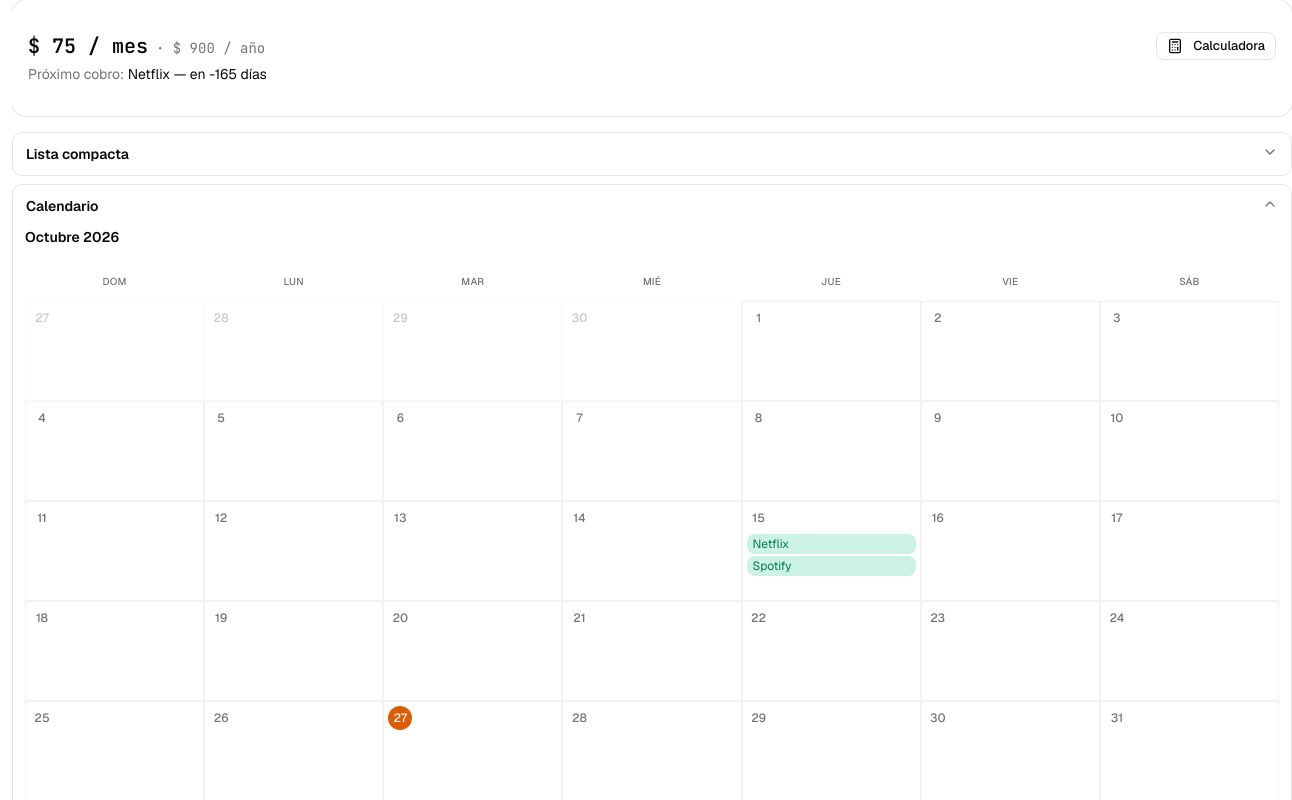
Test case: RecurringCalculator › Cerrar calculadora — returns to normal mode
Note: Open calculator.
Click the button "Calculadora" at (1216, 46), box [1156,32,1276,60]
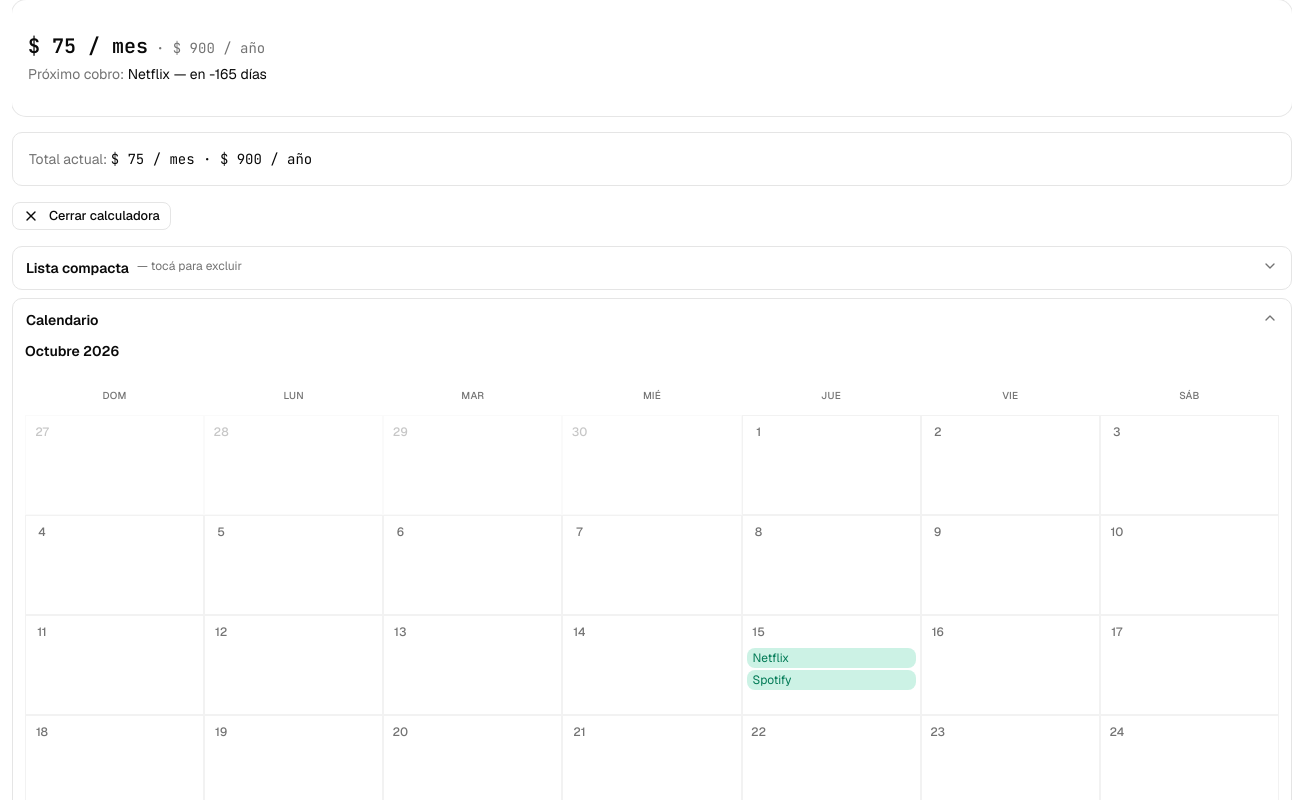
Result: the button "Cerrar calculadora" is shown
Note: Close calculator.
Click the button "Cerrar calculadora" at (91, 216), box [12,202,171,230]
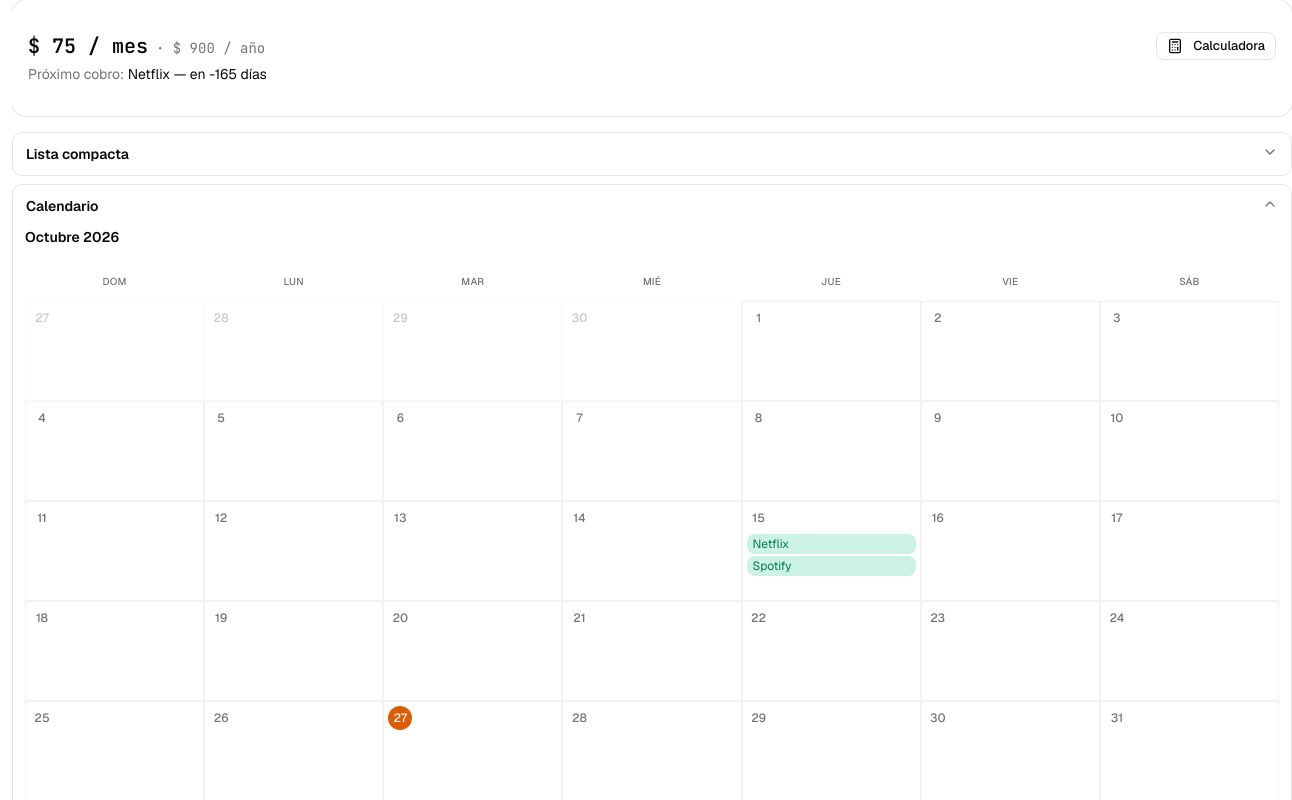
Expected: the button "Calculadora" is shown, [1156,32,1276,60]
Result: the button "Cerrar calculadora" is gone
